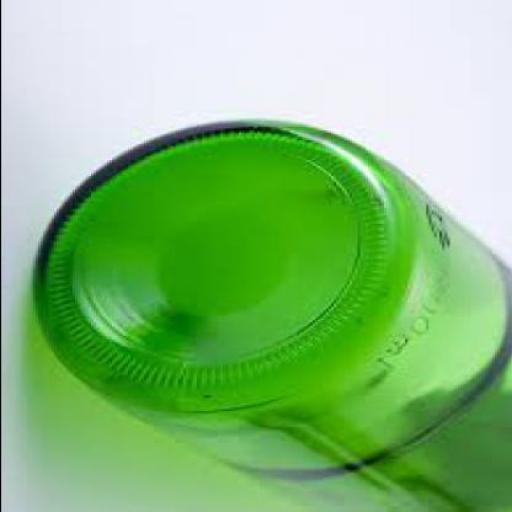glass: (34, 116, 511, 510)
